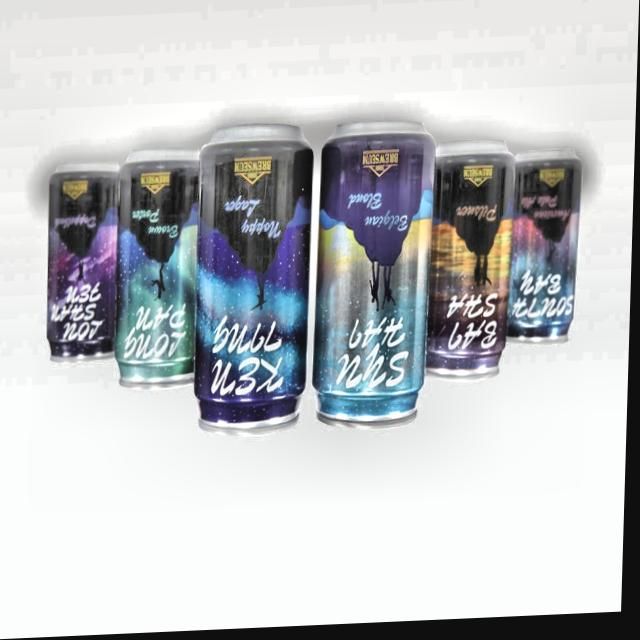can: (190, 121, 319, 446), (311, 120, 440, 442), (429, 136, 521, 395), (113, 145, 204, 402), (42, 162, 125, 369), (509, 151, 588, 358)
